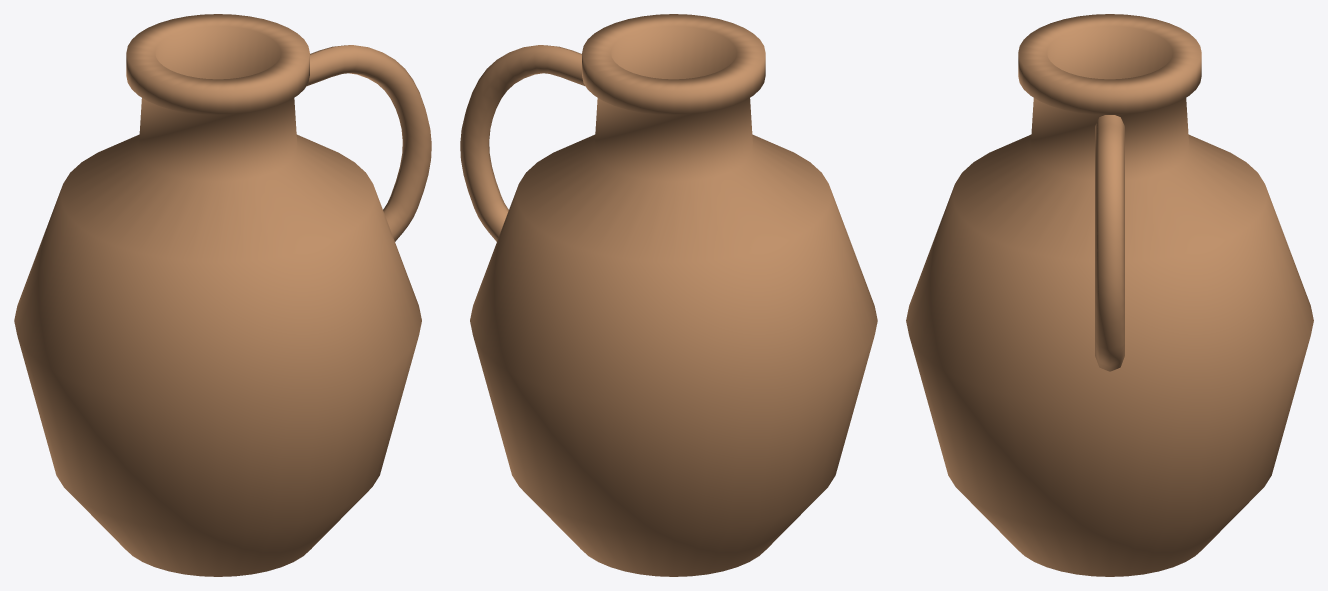
The model's file is water_pitcher.glb.
The picture shows the model from 3 angles, left to right: view 1: azimuth 30°, elevation 25°; view 2: azimuth 150°, elevation 25°; view 3: azimuth 270°, elevation 25°; orthographic projection.
Parts seen in each view (by area): view 1: water_pitcher; view 2: water_pitcher; view 3: water_pitcher.
Boxes of the visible parts, left/top/right/bottom form: water_pitcher: left=14, top=14, right=431, bottom=576; water_pitcher: left=460, top=14, right=877, bottom=576; water_pitcher: left=906, top=14, right=1313, bottom=576.
Bounding box in the file's own units: 0.328 × 0.389 × 0.298.
